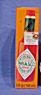grozi_98: (16, 6, 41, 91)
